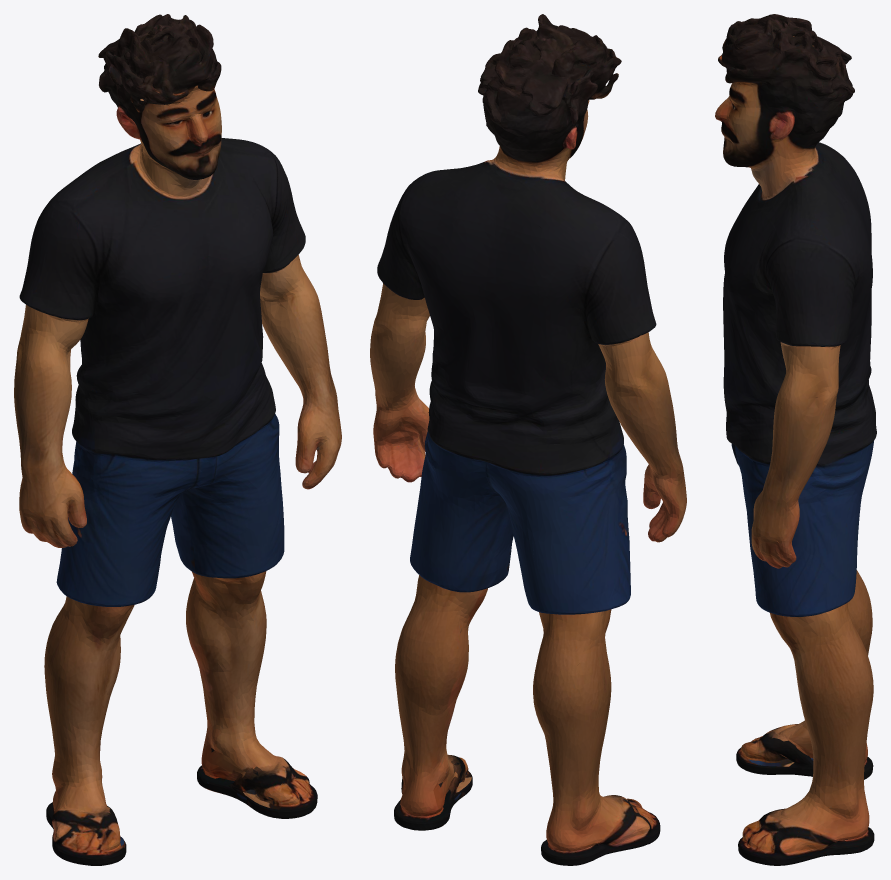
File: smoll_bermuda_hq.glb
The picture shows the model from 3 angles, left to right: view 1: azimuth 30°, elevation 25°; view 2: azimuth 150°, elevation 25°; view 3: azimuth 270°, elevation 25°; orthographic projection. The views are drawn at different scales.
Visible parts, largest first — view 1: smoll_bermuda.obj; view 2: smoll_bermuda.obj; view 3: smoll_bermuda.obj.
Boxes of the visible parts, left/top/right/bottom form: smoll_bermuda.obj: left=14, top=14, right=341, bottom=865; smoll_bermuda.obj: left=370, top=14, right=686, bottom=865; smoll_bermuda.obj: left=715, top=14, right=876, bottom=865.
Bounding box in the file's own units: 0.8201 × 1.99 × 0.3755.
1 material, 1 textured.
